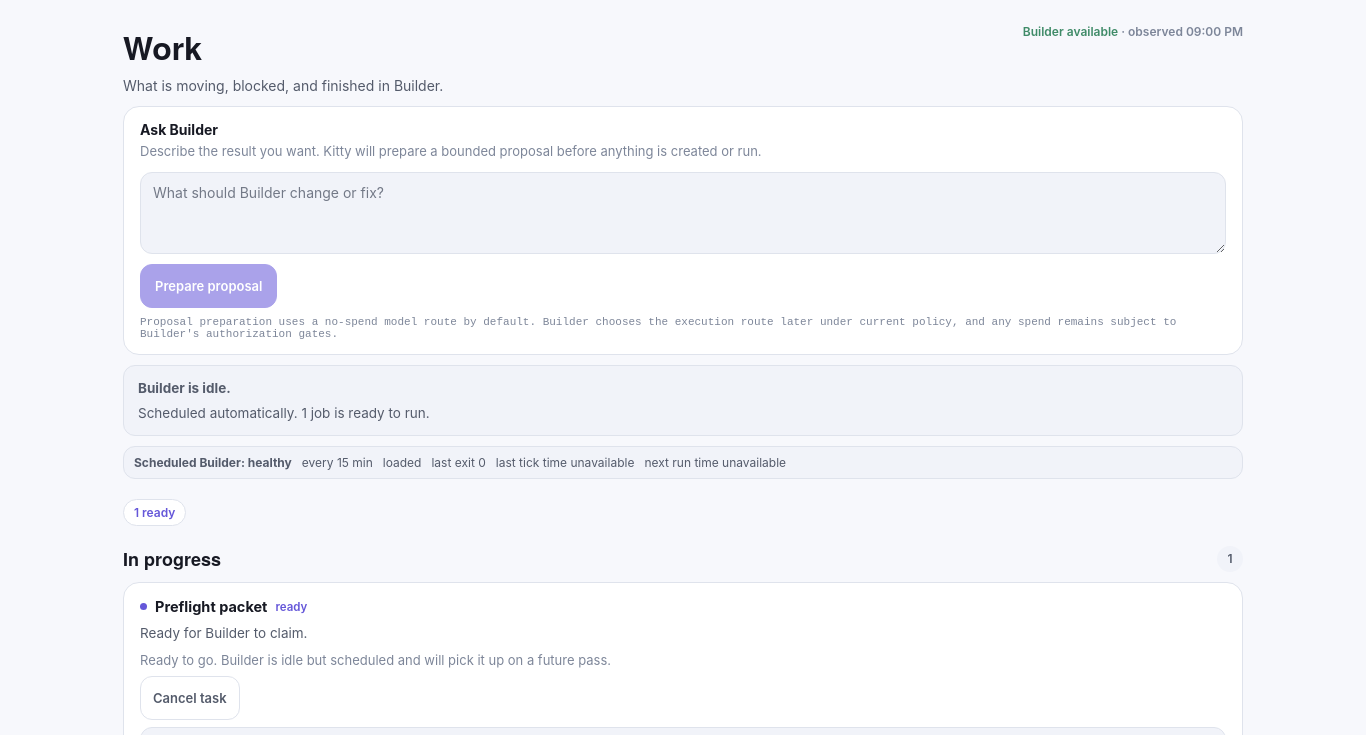
Test: WorkView recovery cockpit › keeps a failed Work request editable and offers an inline retry
Type "Fix the launch bug." into the text box named "Ask Builder for work" at {"x": 683, "y": 213}, box [140,172,1226,254]
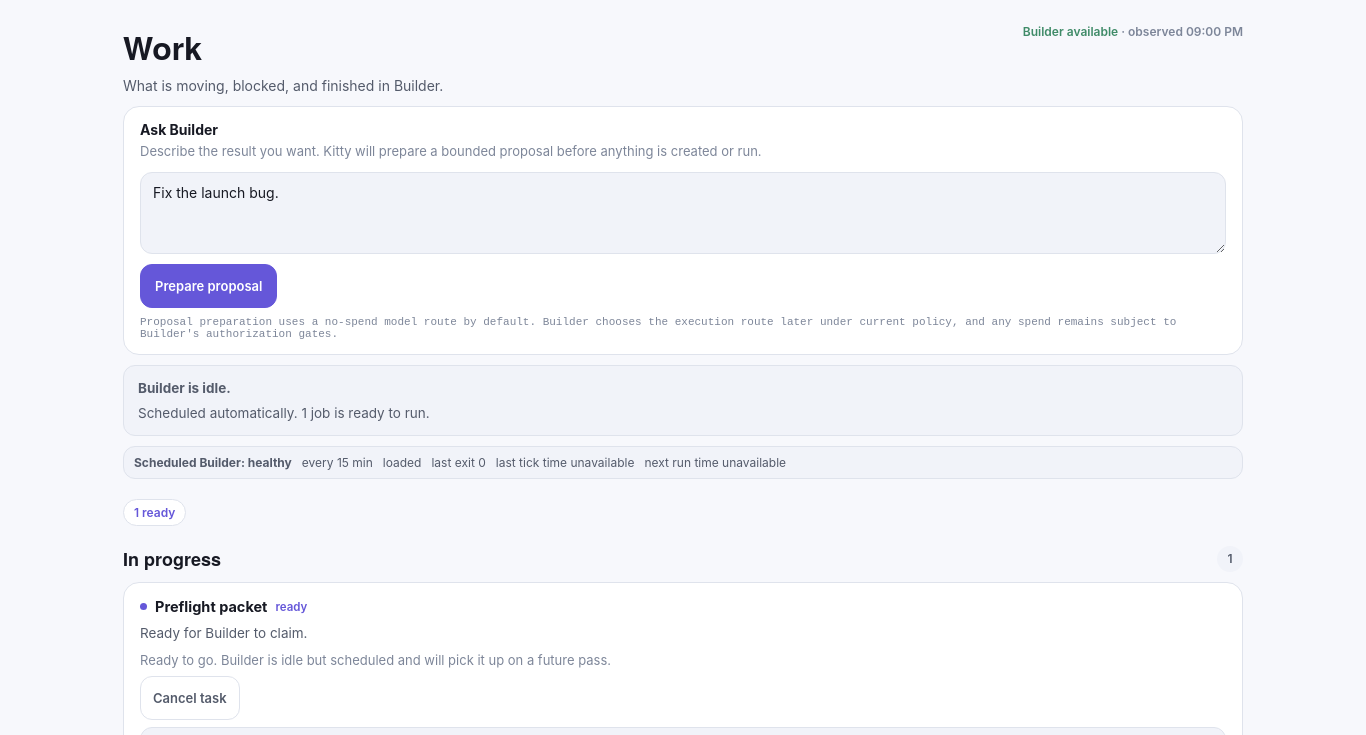
Click the button with aria-label "Prepare Builder proposal" at {"x": 209, "y": 286}, box [140,264,277,308]
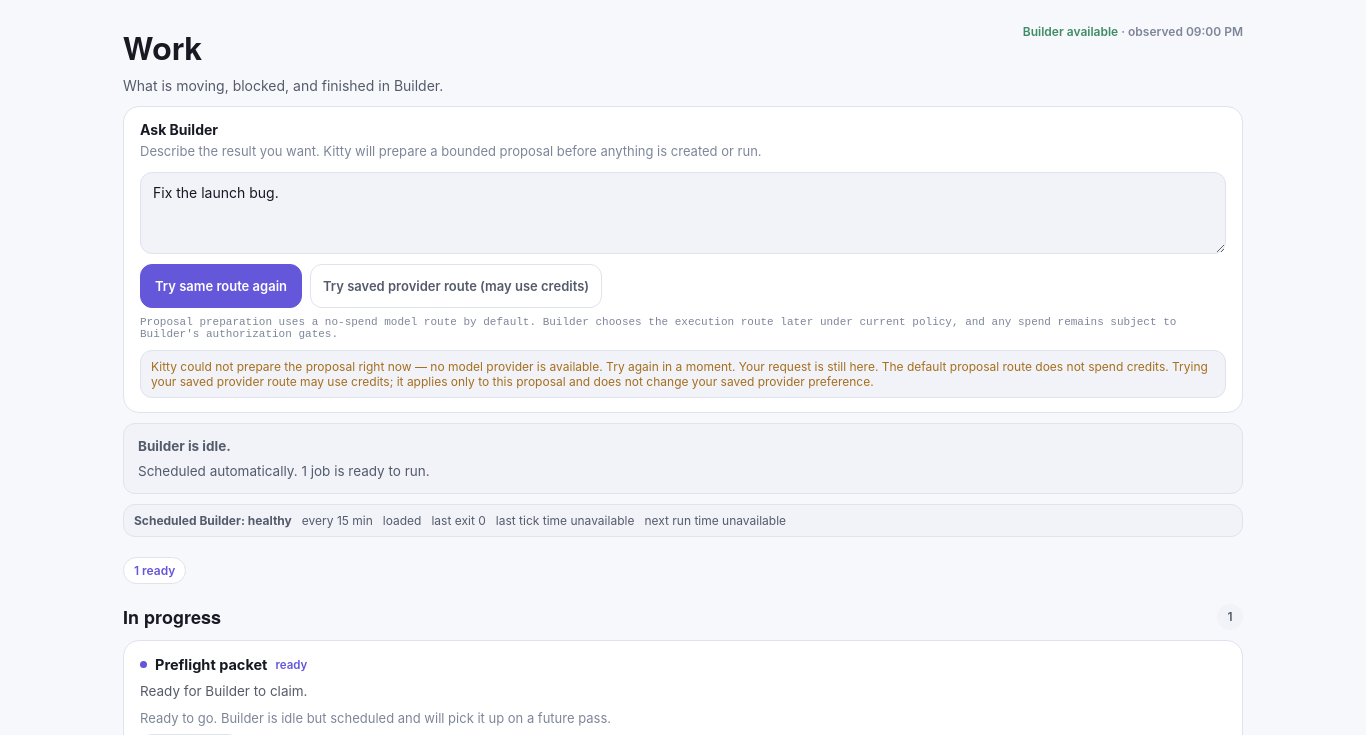
Check: the button with aria-label "Try preparing again" is enabled, box [140,264,302,308]
Check: the text "could not prepare the proposal" is shown, box [151,359,735,374]
Check: the message shows "may use credits", box [151,359,1208,389]
